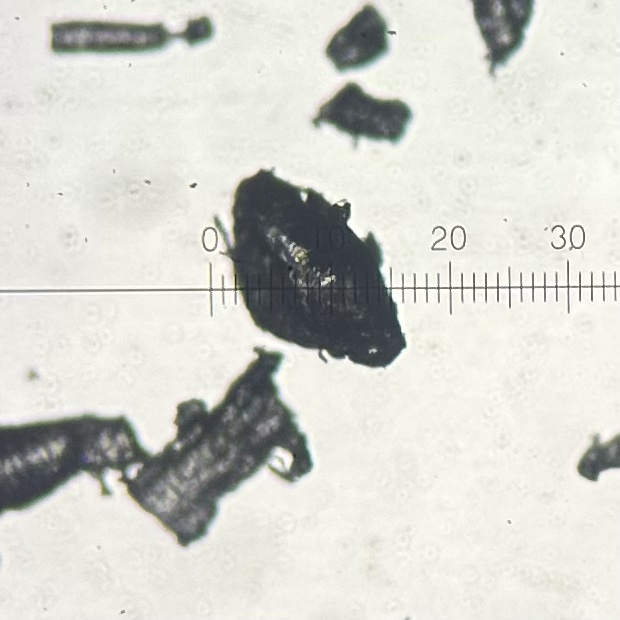microplastic: (213, 164, 411, 370), (126, 346, 315, 551), (1, 413, 154, 522), (306, 79, 417, 155), (319, 1, 396, 78), (469, 1, 539, 82), (49, 18, 172, 58), (577, 429, 620, 488), (179, 13, 216, 50)
